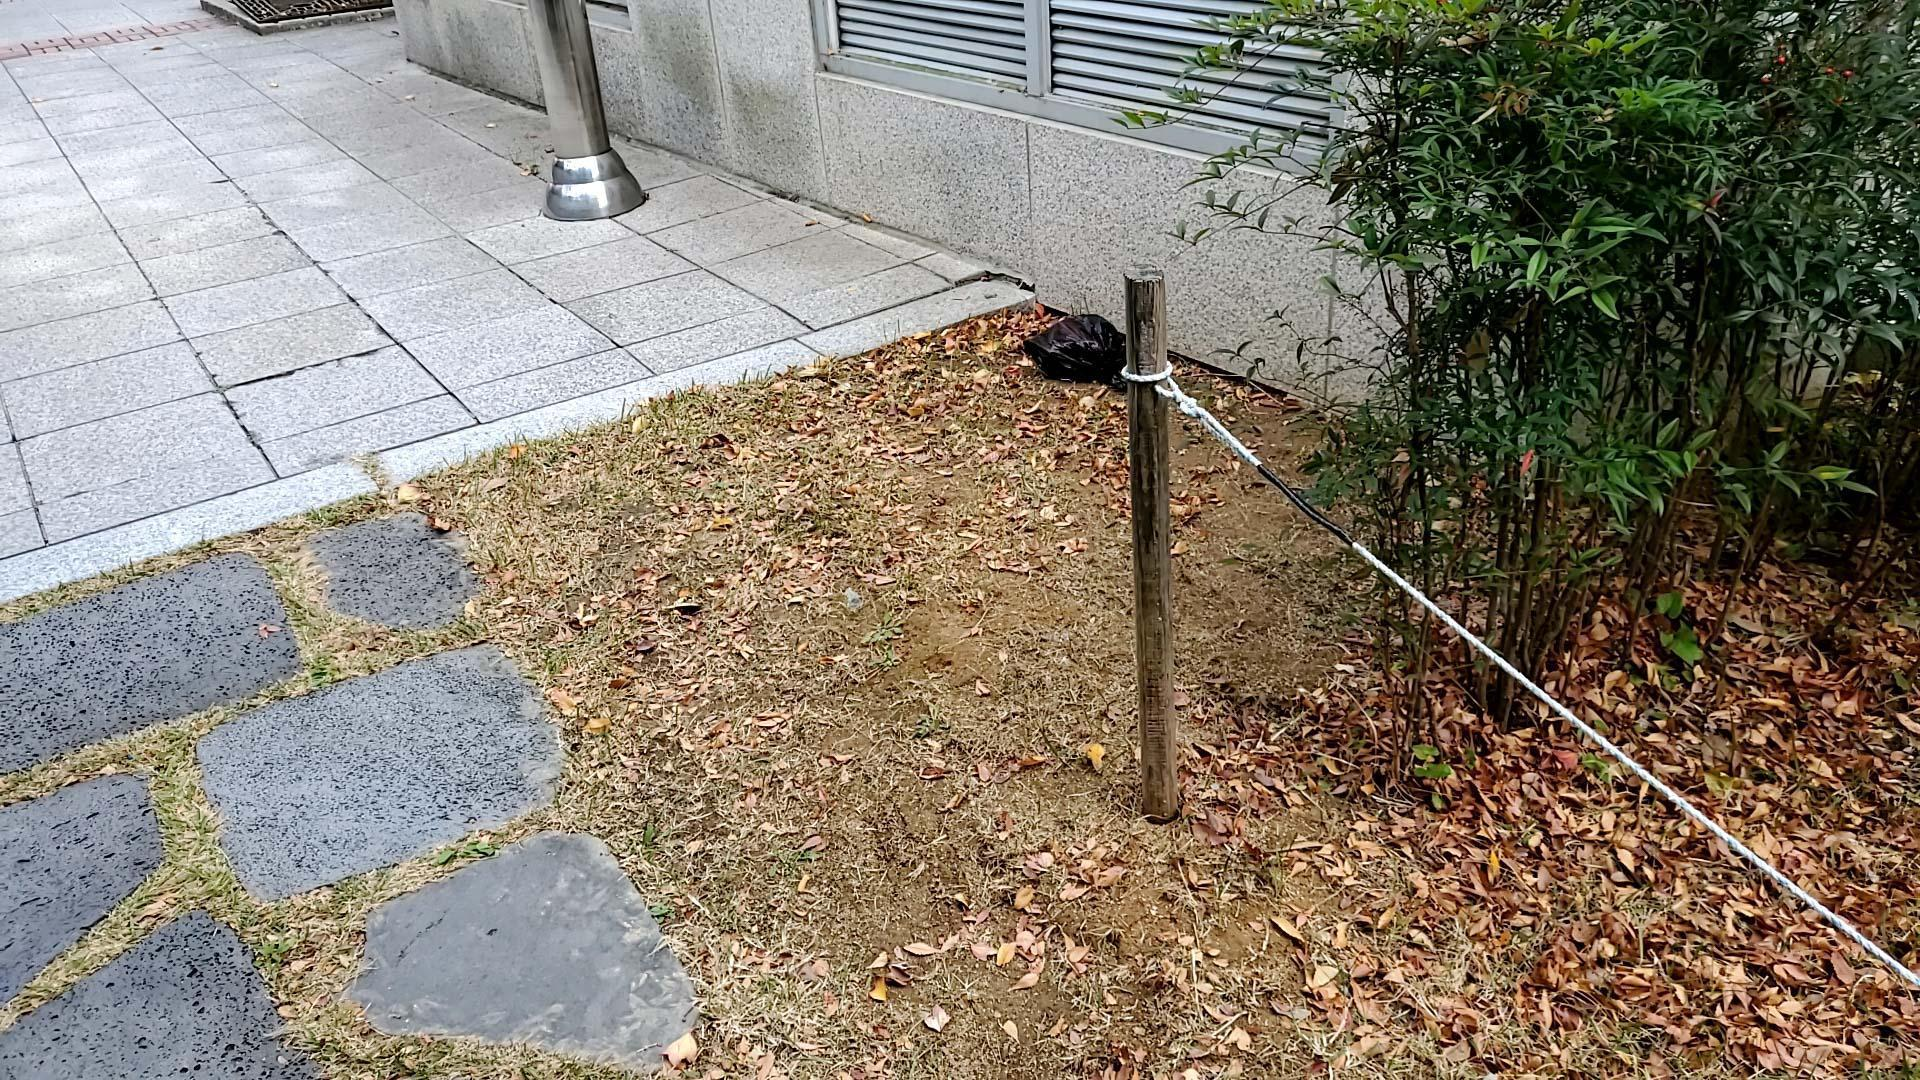black_bag: (1015, 310, 1145, 400)
